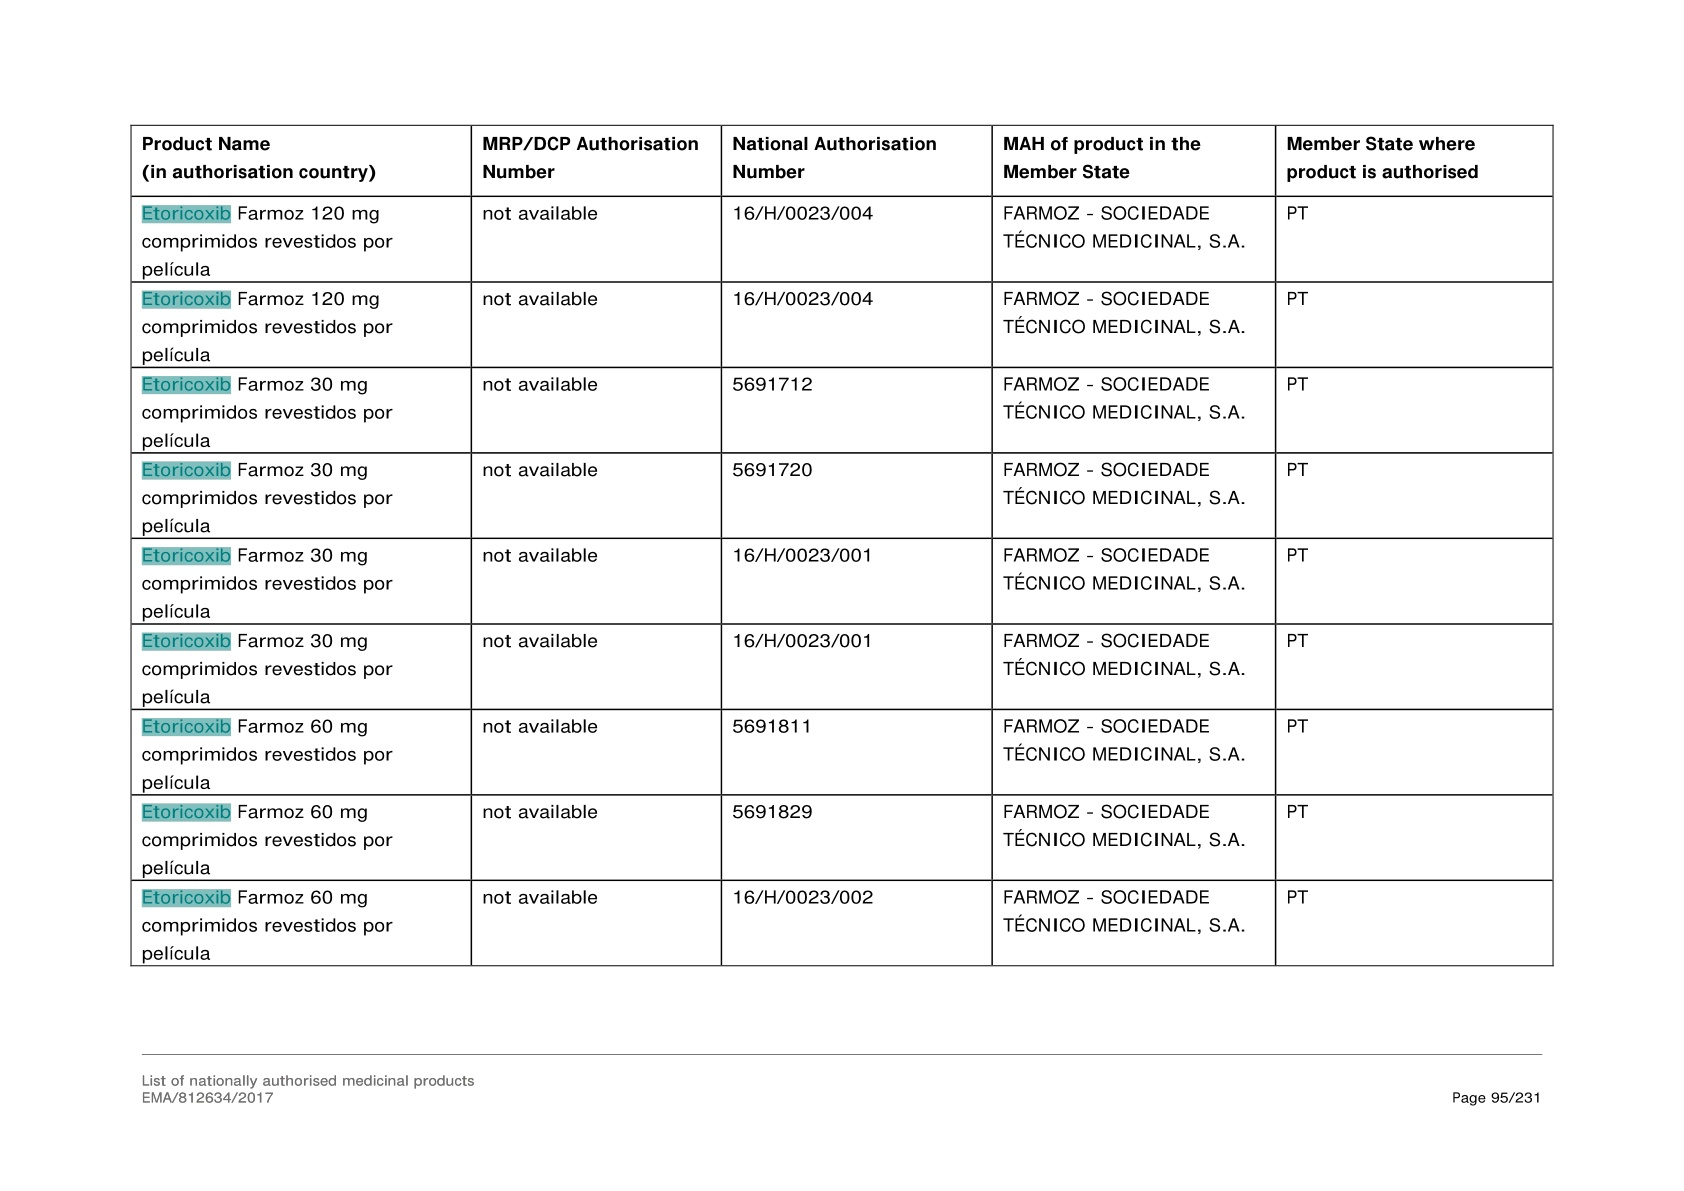full_lined: (126, 115, 1559, 971)
